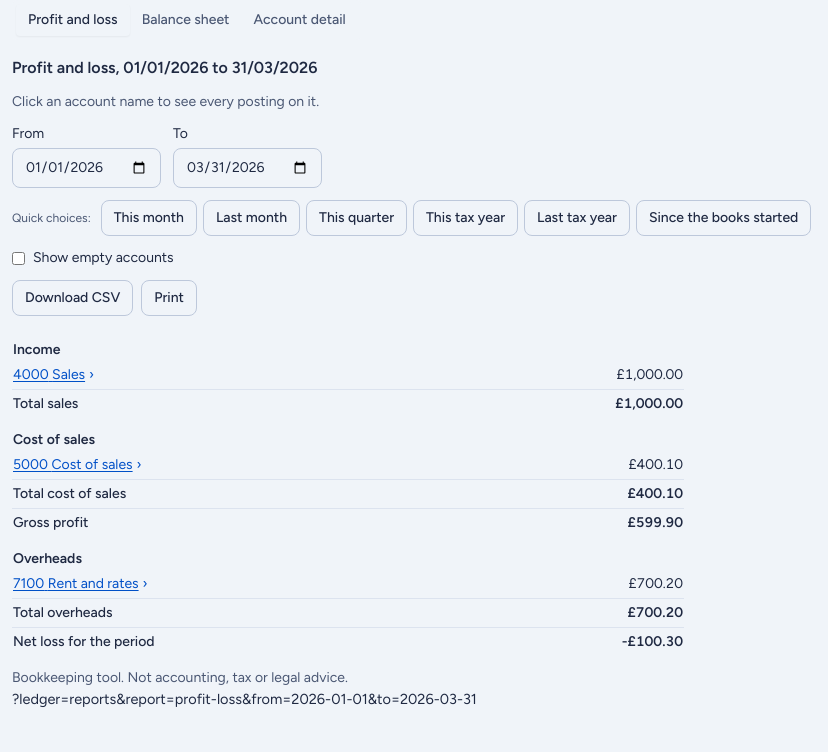
Test: Reports: profit and loss › empty accounts appear only when asked (active ones)
expect the table named "Profit and loss" is shown: met, box [12,328,684,656]
expect the text "7500 Office costs" is not shown: met
Click the checkbox labelled "Show empty accounts" at (18, 258), box [12,252,25,264]
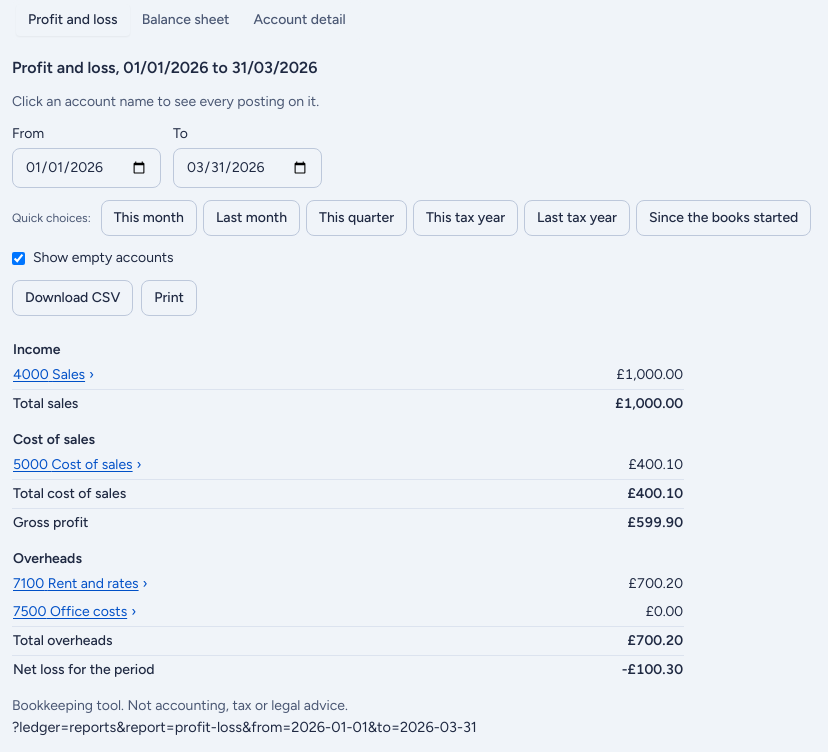
expect the link "7500 Office costs ›" is shown: met, box [13,603,136,620]
